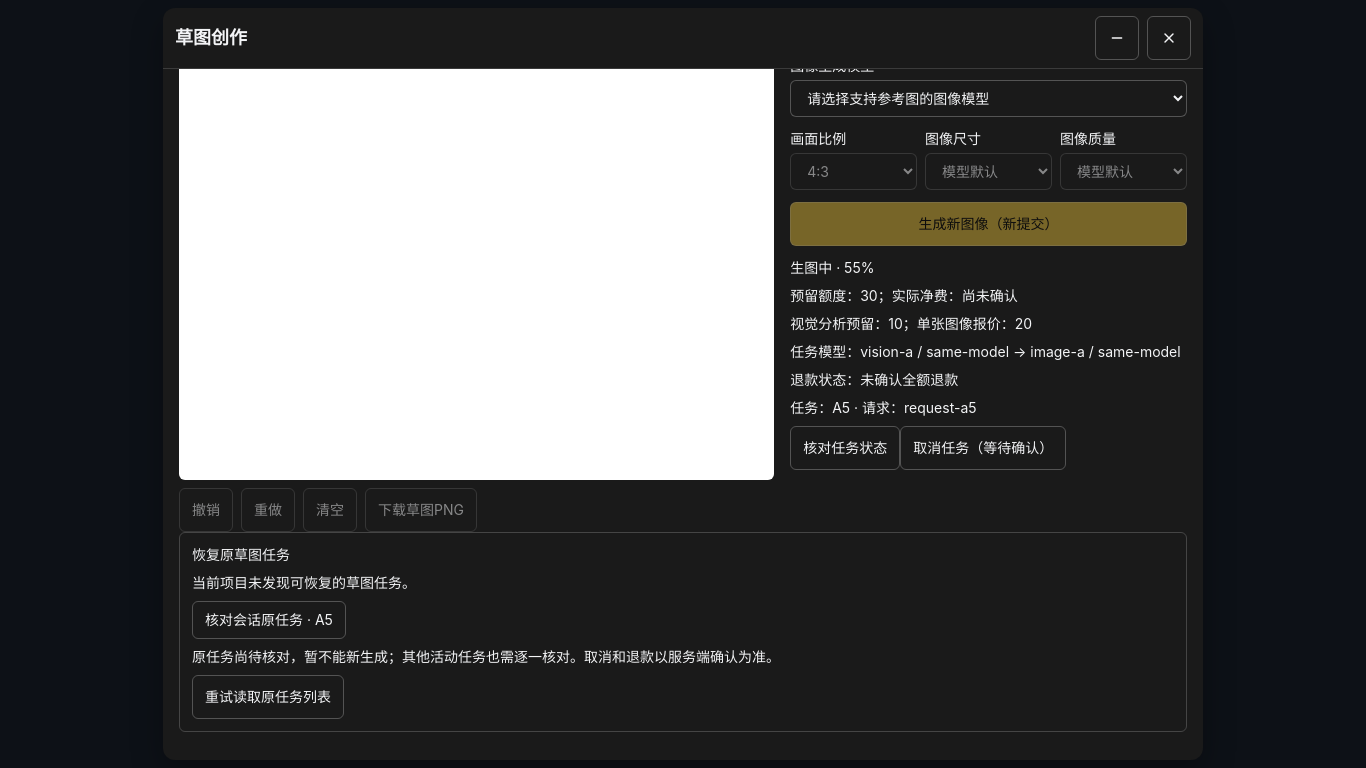
opted-in sketch drawer recovers the original paid task without resubmission › keeps an existing validated session task usable when discovery is empty
(page scrolled)
Expected: the text "当前项目未发现可恢复的草图任务。" is shown, [192,574,416,591]
Expected: the text "生图中 · 55%" is shown, [790,259,874,276]
Click the button "取消任务（等待确认）" at [983, 448], box [900,426,1066,470]
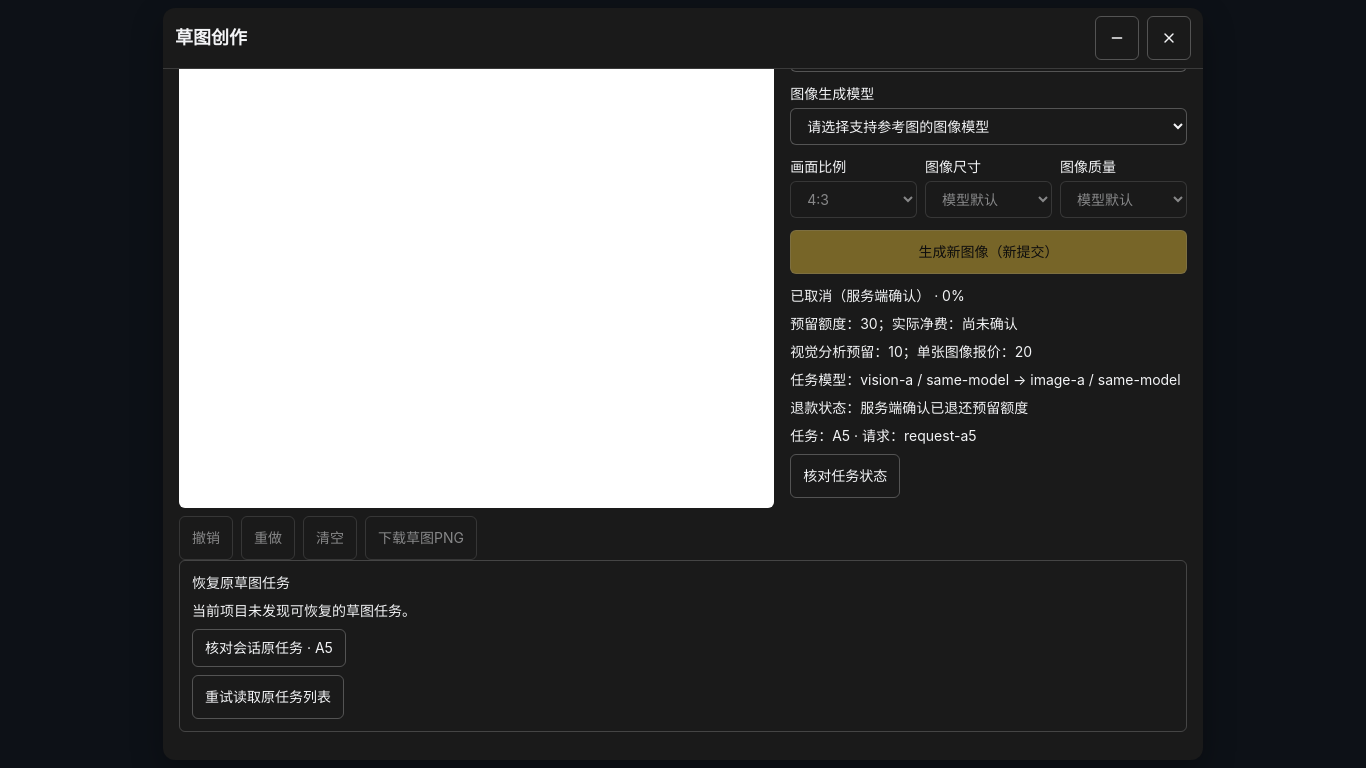
Expected: the text "已取消（服务端确认） · 0%" is shown, [790,287,965,304]
